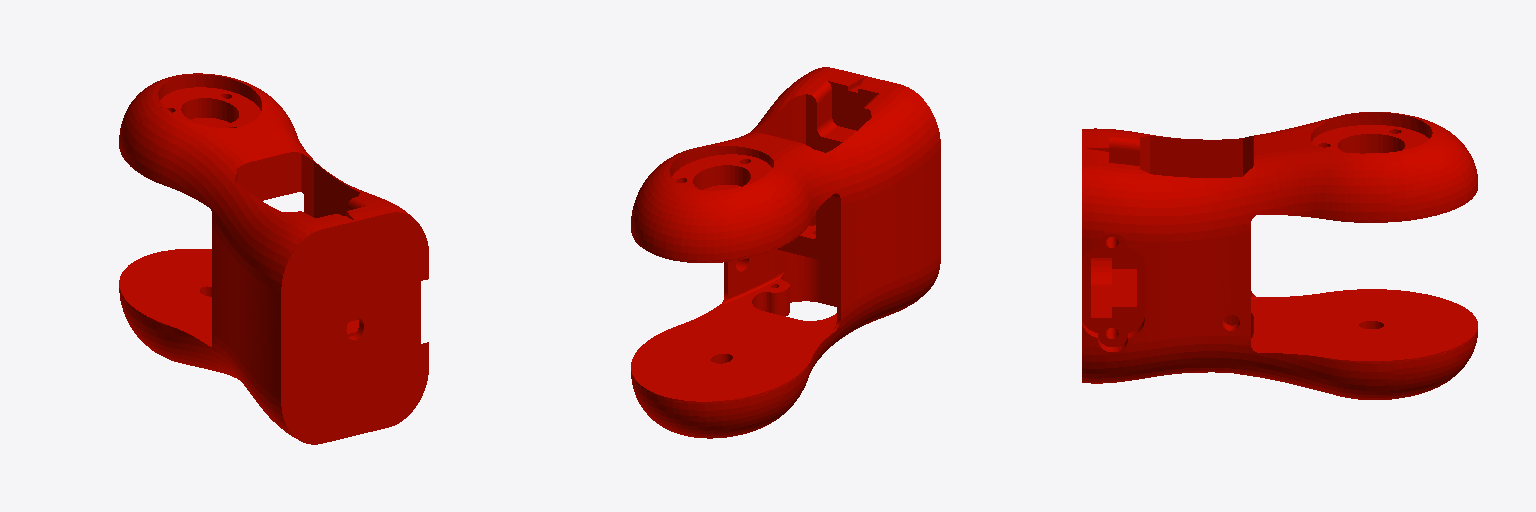
Rendered from pochylacz_chwytakav2.obj.
3 views of the same model, side by side, from view 1: azimuth 30°, elevation 25°; view 2: azimuth 150°, elevation 25°; view 3: azimuth 270°, elevation 25° (orthographic).
Visible parts, largest first — view 1: Wrist.002_Wrist.007_Material.001; view 2: Wrist.002_Wrist.007_Material.001; view 3: Wrist.002_Wrist.007_Material.001.
Part boxes in pixels (bbox=[...]): Wrist.002_Wrist.007_Material.001: bbox=[119, 73, 428, 444]; Wrist.002_Wrist.007_Material.001: bbox=[631, 67, 940, 438]; Wrist.002_Wrist.007_Material.001: bbox=[1082, 112, 1477, 399].
Size of the model in its own units: 0.1151 by 0.1783 by 0.2599.